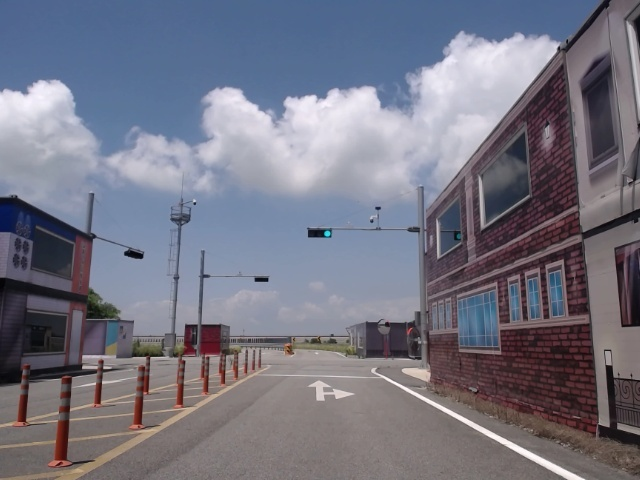green_3: (308, 229, 332, 238)
